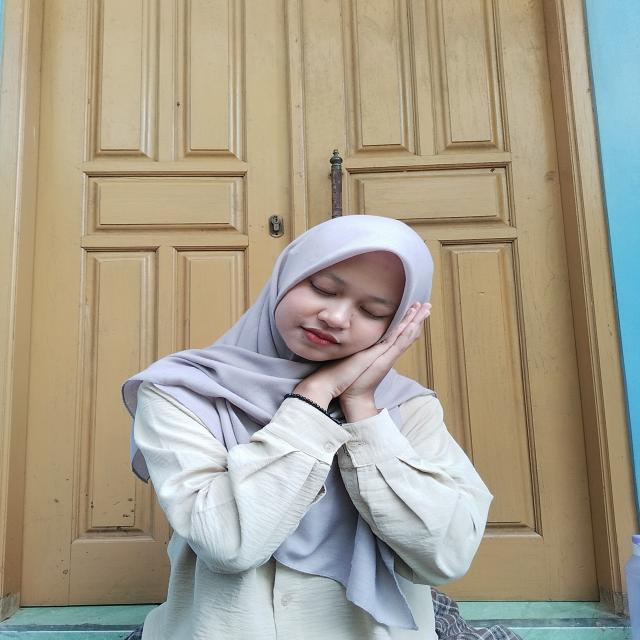tidur: (249, 303, 439, 431)
